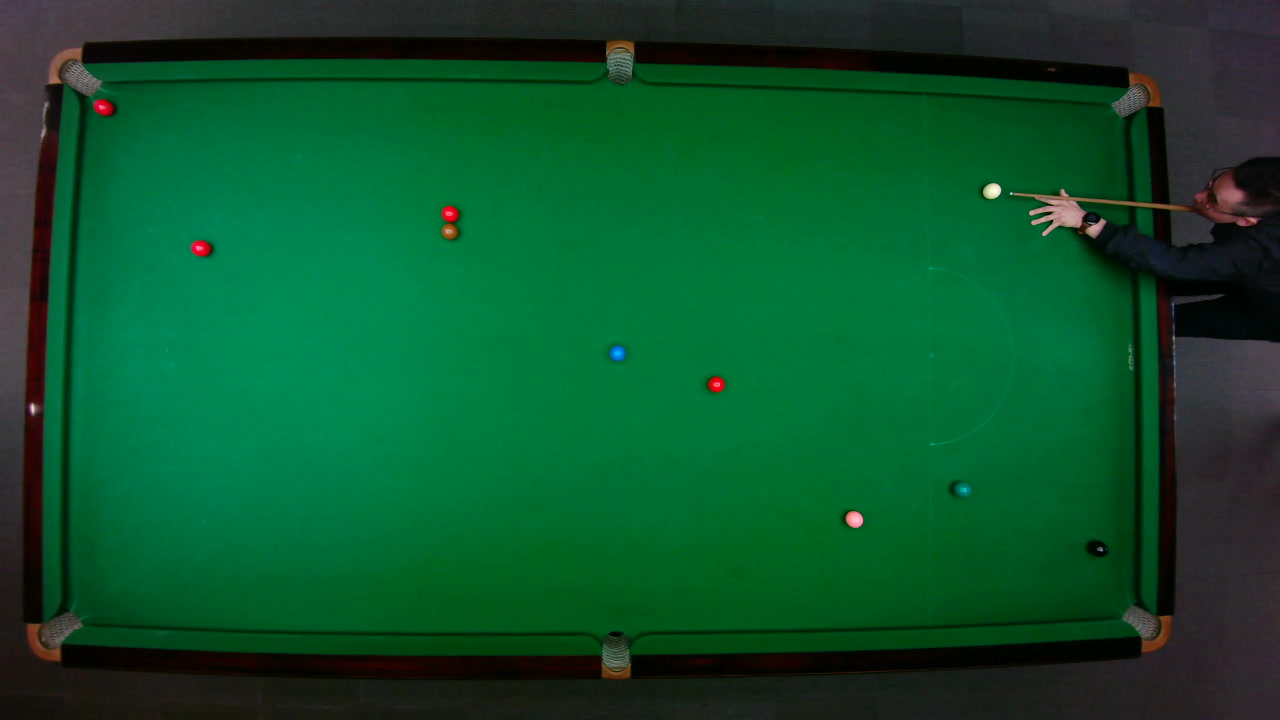bag: (24, 609, 83, 661), (45, 46, 102, 96), (1119, 603, 1172, 652), (1108, 71, 1162, 118), (600, 629, 629, 680), (605, 38, 633, 85)
black: (1087, 539, 1108, 557)
blue: (608, 344, 625, 361)
brown: (440, 223, 458, 240)
cue: (1007, 190, 1280, 222)
green: (951, 480, 972, 497)
pink: (843, 509, 864, 528)
red: (91, 97, 115, 116), (189, 239, 211, 257), (706, 374, 725, 393), (439, 204, 459, 222)
white: (981, 181, 1001, 199)
zone: (927, 265, 1014, 445)
